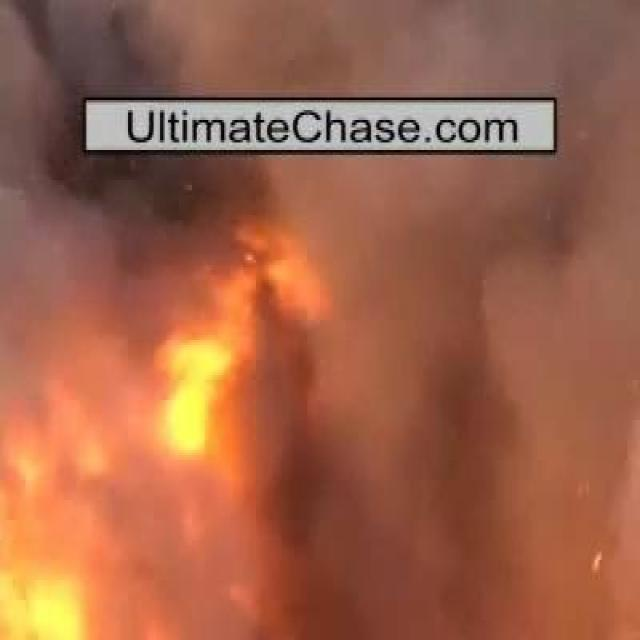Smoke: (50, 166, 588, 572)
